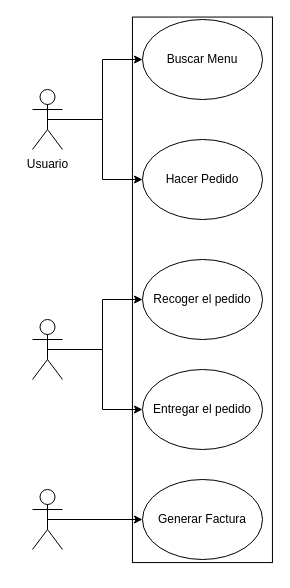
Image size: 290x588. Some labels were removed from this diagram. The centre of each missing label's shape, as x and y in pixels:
"Aplicacion" goes at [47,519].
"Repartidor" goes at [47,349].
